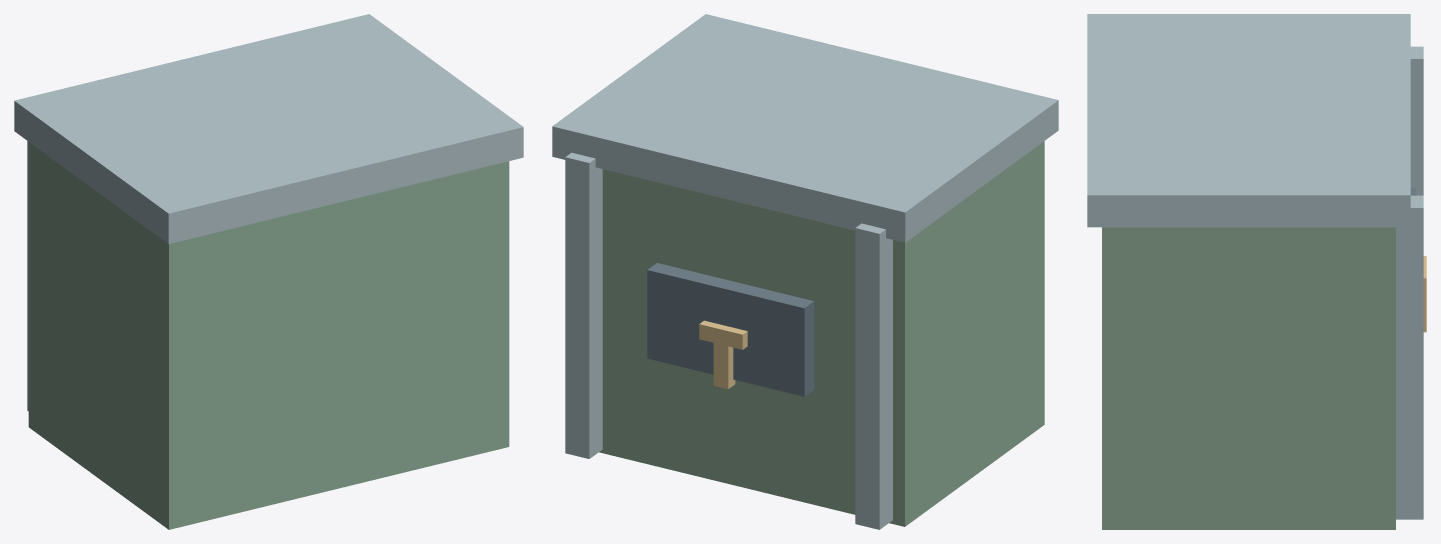
Rendered from fps-supply-crate.gltf.
3 views of the same model, side by side, from view 1: azimuth 30°, elevation 25°; view 2: azimuth 150°, elevation 25°; view 3: azimuth 270°, elevation 25° (orthographic). The views are drawn at different scales.
Parts seen in each view (by area): view 1: Mesh 0, Mesh 1; view 2: Mesh 0, Mesh 1, Mesh 4, Mesh 2, Mesh 3, Mesh 5, Mesh 6; view 3: Mesh 0, Mesh 1, Mesh 3, Mesh 2.
Part boxes in pixels (x1,y1,x2,y2): Mesh 0: [28, 142, 509, 529]; Mesh 1: [14, 14, 523, 243]; Mesh 0: [599, 141, 1044, 526]; Mesh 1: [552, 14, 1058, 242]; Mesh 4: [647, 263, 814, 396]; Mesh 2: [855, 223, 892, 529]; Mesh 3: [565, 152, 602, 458]; Mesh 5: [699, 320, 747, 349]; Mesh 6: [713, 340, 735, 389]; Mesh 0: [1102, 227, 1395, 529]; Mesh 1: [1087, 14, 1410, 227]; Mesh 3: [1396, 195, 1423, 519]; Mesh 2: [1410, 46, 1423, 195].
Bounding box in the file's own units: 1.46 × 1.27 × 1.16.
